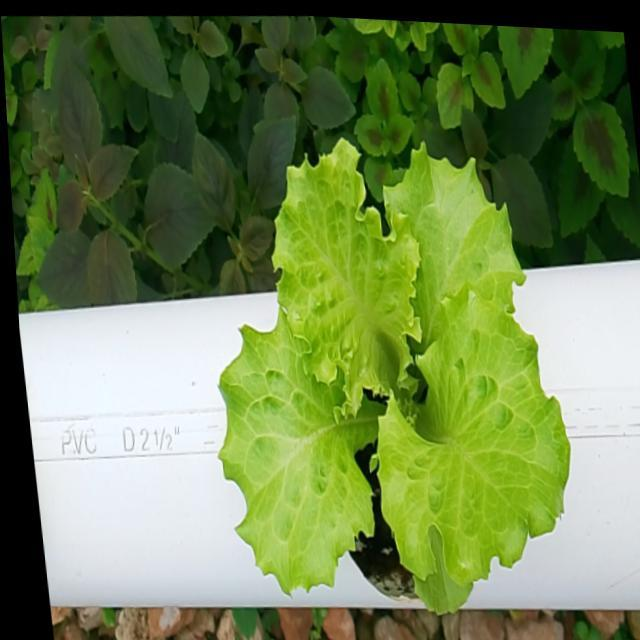Baby: (217, 139, 567, 610)
